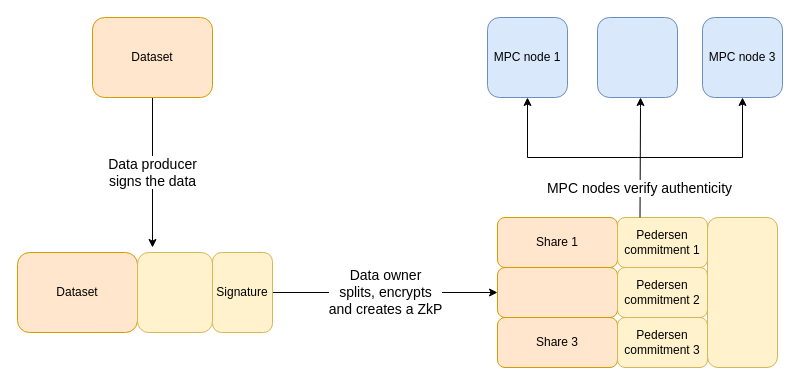
Image size: 800x385. Some labels were removed from this diagram. The shapes that lost their labels are listed below. From the top down, each one's centre as x and y in pixels, then its label:
At (637,57): "MPC node 2".
At (174,292): "Pedersen commitment".
At (557,292): "Share 2".
At (742,292): "Zero-knowledge Proof".
